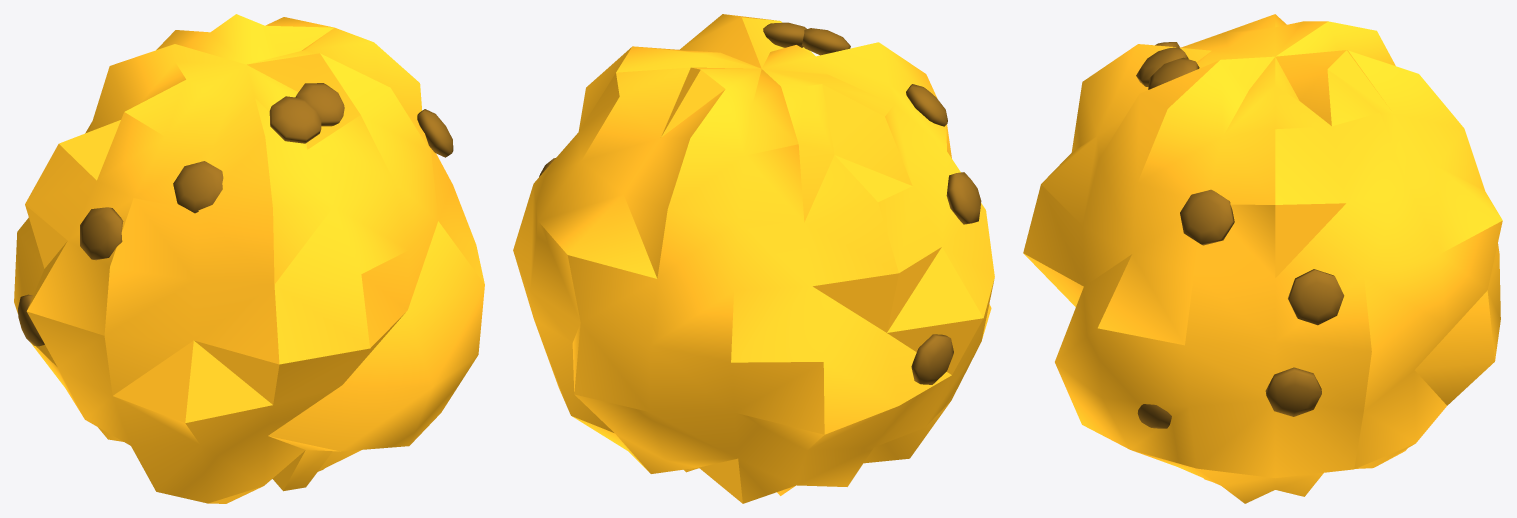
File: GoldenTruffle.fbx
3 views of the same model, side by side, from view 1: azimuth 30°, elevation 25°; view 2: azimuth 150°, elevation 25°; view 3: azimuth 270°, elevation 25° (orthographic).
Visible parts, largest first — view 1: Handle, Spot, Spot.002, Spot.007, Spot.001, Spot.004, Spot.006; view 2: Handle, Spot.006, Spot.007, Spot, Spot.002, Spot.001; view 3: Handle, Spot.003, Spot.004, Spot.008, Spot.002, Spot.001, Spot.005.
Part boxes in pixels (left/top/right/bottom): Handle: left=14, top=14, right=484, bottom=503; Spot: left=173, top=161, right=223, bottom=213; Spot.002: left=269, top=96, right=321, bottom=143; Spot.007: left=80, top=207, right=123, bottom=260; Spot.001: left=295, top=83, right=344, bottom=126; Spot.004: left=417, top=109, right=453, bottom=157; Spot.006: left=18, top=294, right=44, bottom=346; Handle: left=513, top=14, right=994, bottom=503; Spot.006: left=911, top=334, right=953, bottom=384; Spot.007: left=946, top=172, right=981, bottom=224; Spot: left=906, top=84, right=947, bottom=126; Spot.002: left=802, top=28, right=850, bottom=55; Spot.001: left=763, top=22, right=806, bottom=47; Handle: left=1023, top=14, right=1502, bottom=503; Spot.003: left=1288, top=269, right=1344, bottom=325; Spot.004: left=1180, top=189, right=1234, bottom=245; Spot.008: left=1265, top=367, right=1321, bottom=416; Spot.002: left=1136, top=47, right=1188, bottom=86; Spot.001: left=1148, top=57, right=1199, bottom=89; Spot.005: left=1137, top=404, right=1171, bottom=428.
Bounding box in the file's own units: 1.18 × 1.14 × 1.14.
